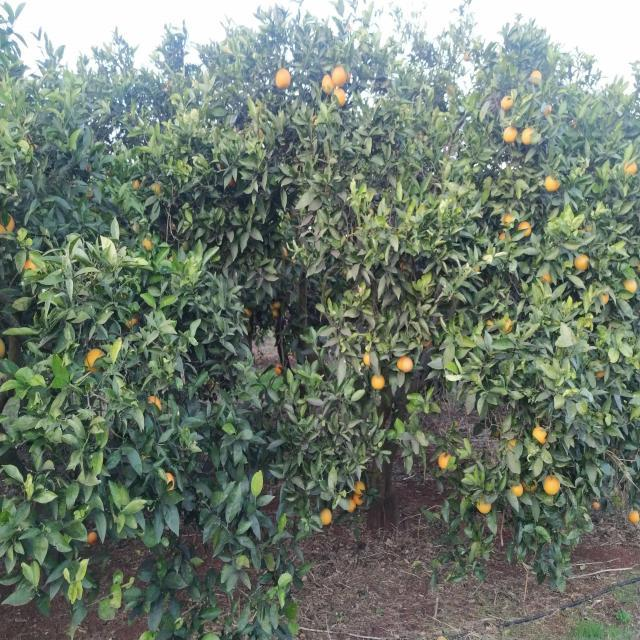Jeruk Belum Matang: (622, 276, 638, 294), (150, 182, 162, 196)
Jeruk Sudah Matang: (85, 347, 103, 372), (520, 125, 536, 146), (544, 475, 560, 495), (502, 125, 518, 144), (332, 66, 347, 86), (574, 254, 590, 272), (276, 69, 290, 89), (476, 498, 492, 515), (0, 215, 16, 232), (332, 88, 346, 106), (322, 74, 334, 94), (544, 176, 559, 192), (533, 427, 546, 444), (624, 161, 638, 176), (510, 482, 524, 497), (164, 471, 174, 492), (148, 396, 162, 411), (501, 95, 514, 111), (519, 221, 532, 237), (438, 453, 451, 468), (320, 508, 332, 524), (372, 376, 386, 389), (500, 319, 512, 333), (402, 357, 414, 371), (531, 70, 541, 86), (354, 479, 364, 494), (141, 238, 153, 250), (629, 511, 639, 524), (24, 260, 35, 271), (499, 232, 511, 242), (362, 352, 370, 366), (346, 499, 354, 512), (352, 493, 362, 503), (600, 293, 609, 304), (88, 531, 97, 542), (540, 274, 552, 282), (396, 357, 404, 369), (504, 214, 511, 227), (275, 364, 282, 376), (273, 302, 281, 308), (273, 312, 279, 320), (244, 308, 250, 314)
